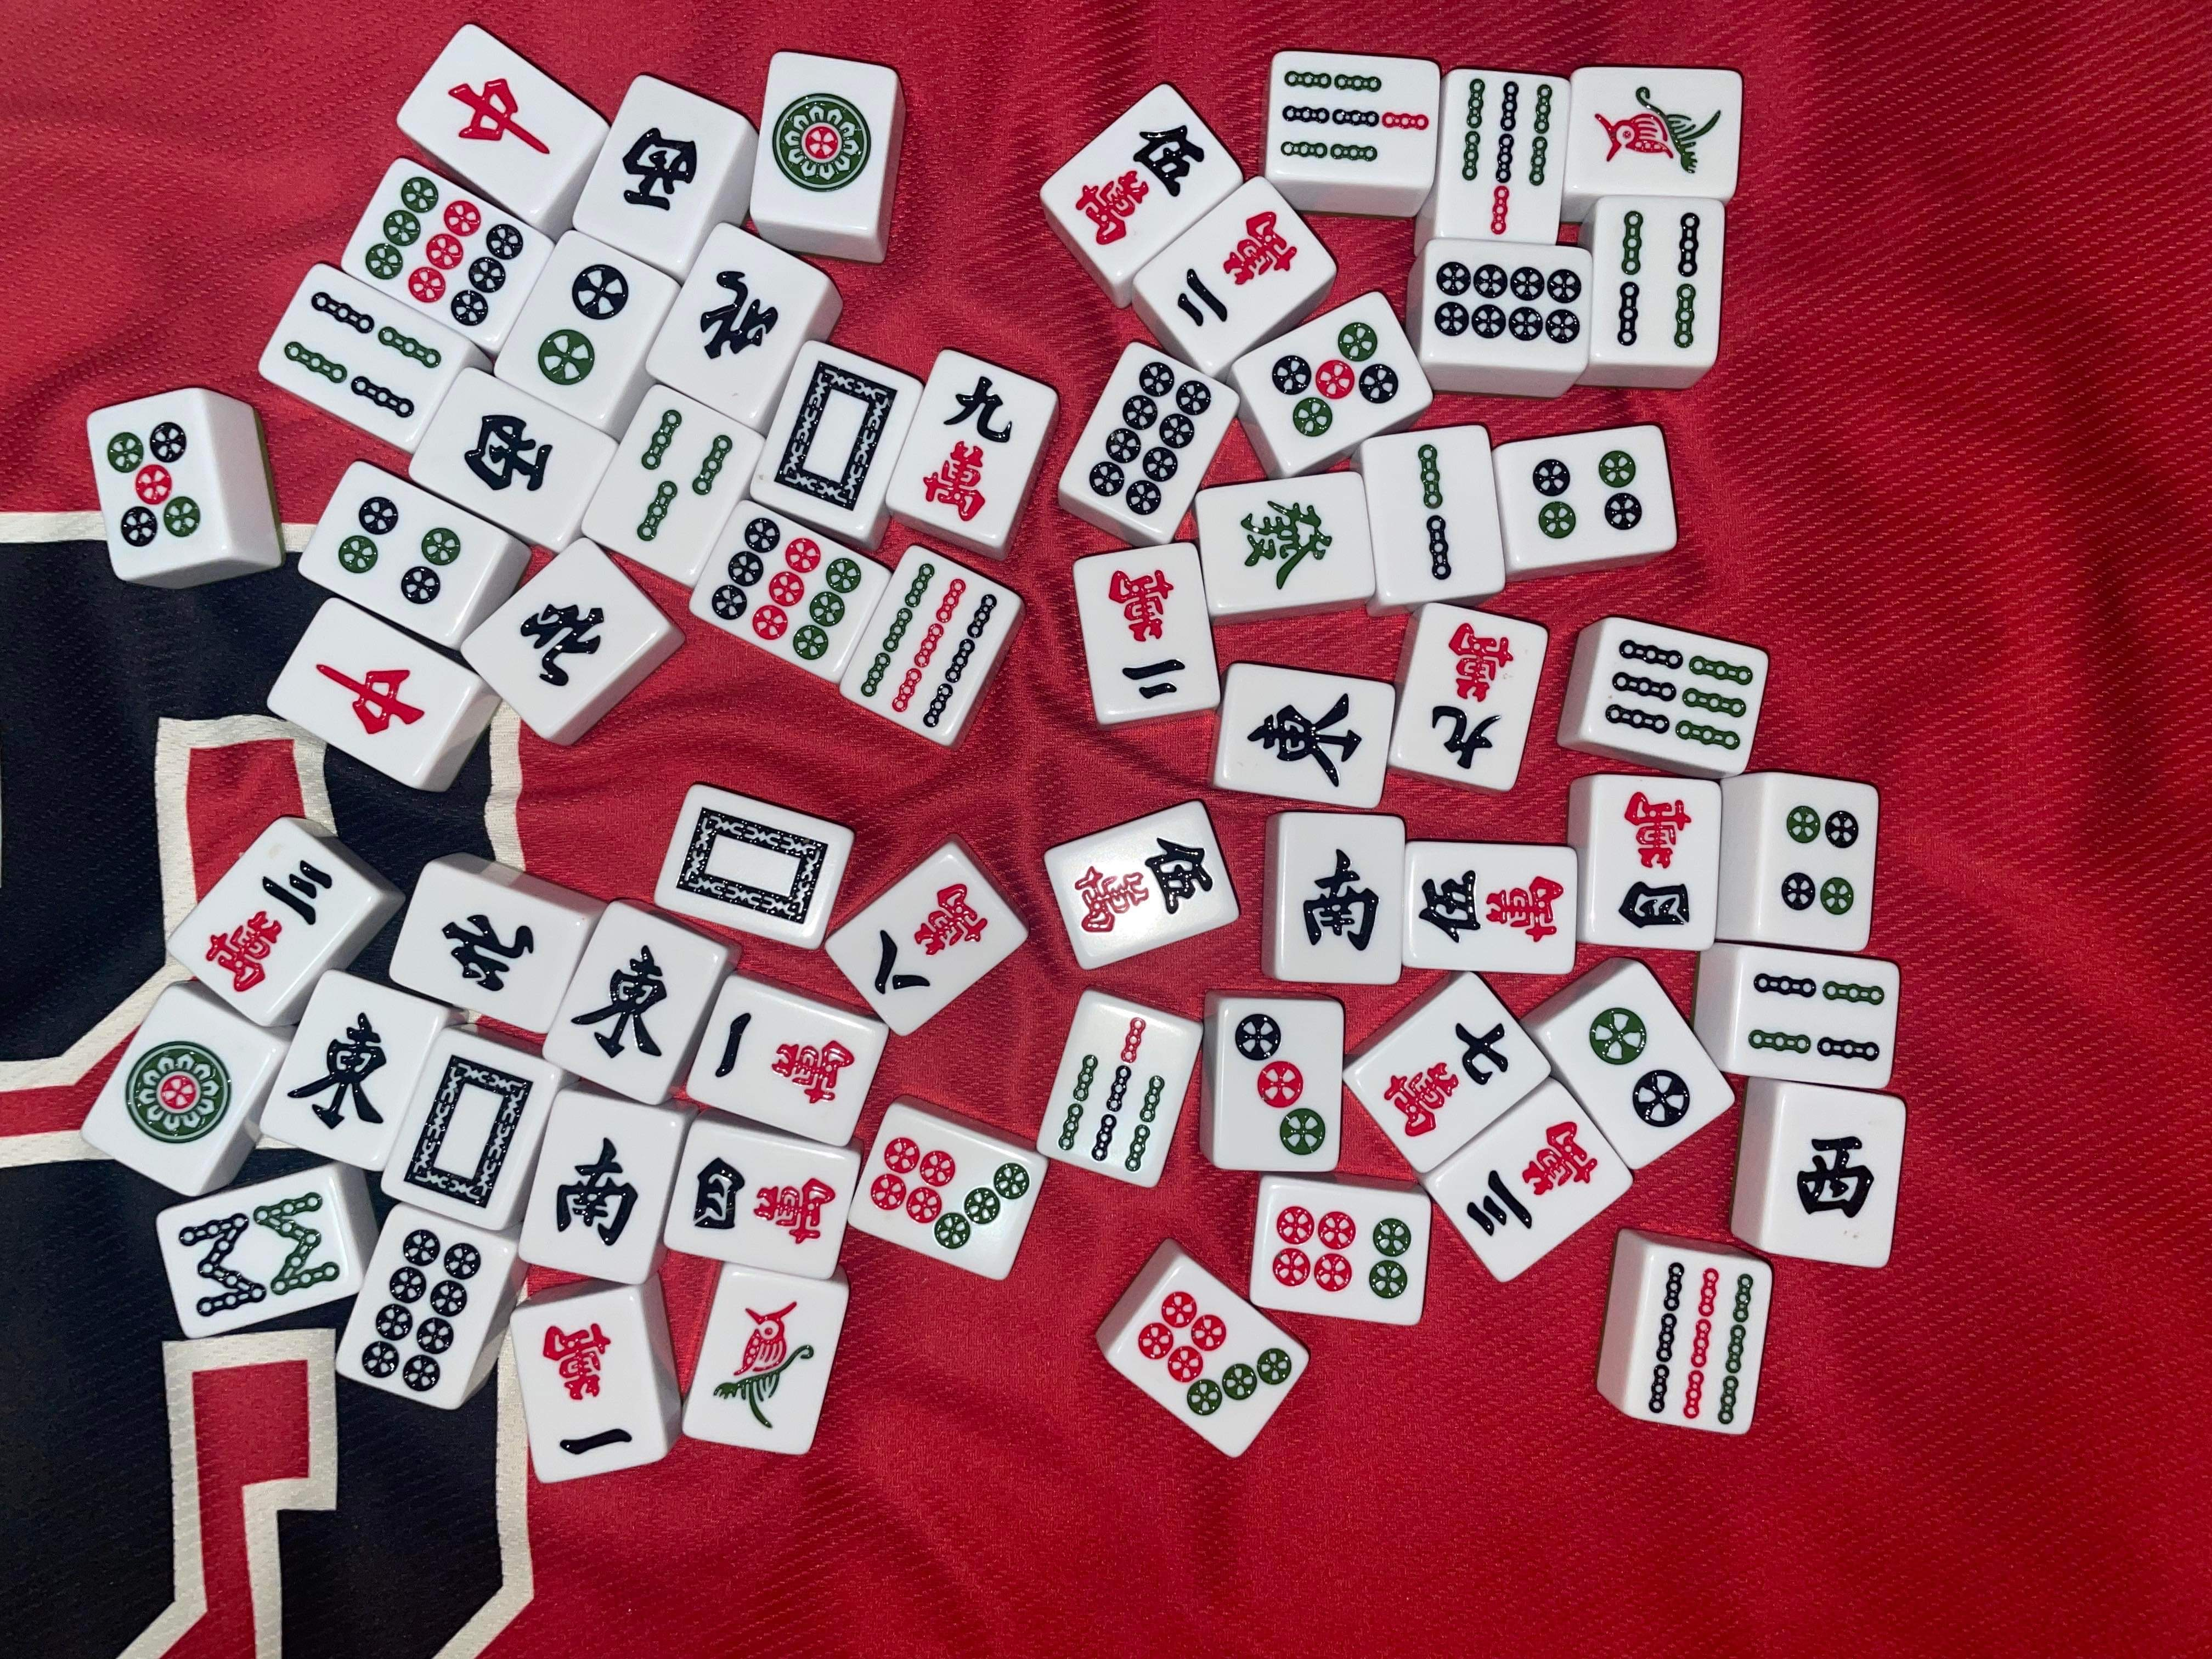b-1: (712, 1298, 819, 1436), (1592, 82, 1730, 183)
b-2: (1409, 439, 1460, 584)
b-4: (280, 293, 446, 423), (1609, 206, 1702, 359), (1749, 971, 1890, 1070), (632, 410, 733, 547)
b-6: (1599, 634, 1756, 751)
b-7: (1050, 1016, 1174, 1175), (1278, 68, 1432, 174), (1456, 75, 1554, 240)
b-8: (176, 1192, 340, 1321)
b-9: (860, 563, 998, 732), (1648, 1262, 1756, 1425)
c-1: (711, 1009, 857, 1110), (535, 1319, 641, 1457)
c-2: (1163, 211, 1301, 331), (1101, 565, 1193, 702)
c-3: (207, 859, 334, 995), (1465, 1121, 1599, 1239)
c-4: (691, 1152, 838, 1246), (1613, 789, 1695, 932)
c-5: (1071, 125, 1207, 246), (1071, 835, 1214, 936), (1418, 866, 1566, 950)
c-7: (1383, 1019, 1512, 1141)
c-8: (869, 880, 995, 995)
c-9: (920, 373, 1015, 526), (1430, 620, 1517, 770)
d-1: (765, 91, 881, 195), (120, 1039, 233, 1145)
d-2: (1587, 1006, 1693, 1131), (536, 261, 632, 390)
d-3: (1231, 1011, 1327, 1159)
d-4: (336, 495, 463, 606), (1526, 448, 1651, 544), (1780, 798, 1860, 917)
d-5: (1266, 321, 1400, 439), (105, 420, 206, 552)
d-6: (1270, 1202, 1418, 1307)
d-7: (1137, 1288, 1292, 1417), (869, 1136, 1031, 1251)
d-8: (359, 1225, 482, 1392), (1087, 361, 1214, 518), (1432, 256, 1583, 349)
d-9: (361, 174, 524, 329), (711, 518, 862, 662)
honors-east: (286, 1009, 392, 1136), (570, 945, 671, 1066), (1240, 692, 1367, 786)
honors-green: (1235, 497, 1336, 594)
honors-north: (435, 911, 538, 997), (519, 601, 613, 692), (700, 265, 782, 364)
honors-red: (439, 75, 554, 166), (312, 655, 428, 735)
honors-south: (556, 1134, 643, 1248), (1301, 847, 1381, 957)
honors-west: (463, 410, 554, 502), (1792, 1129, 1881, 1220), (617, 124, 702, 213)
honors-white: (402, 1051, 536, 1213), (772, 357, 902, 514), (674, 805, 831, 927)
